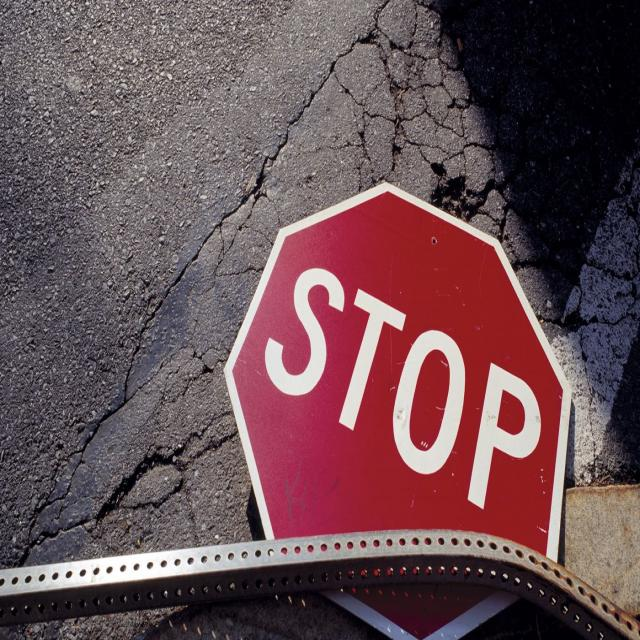stop: (225, 181, 561, 640)
